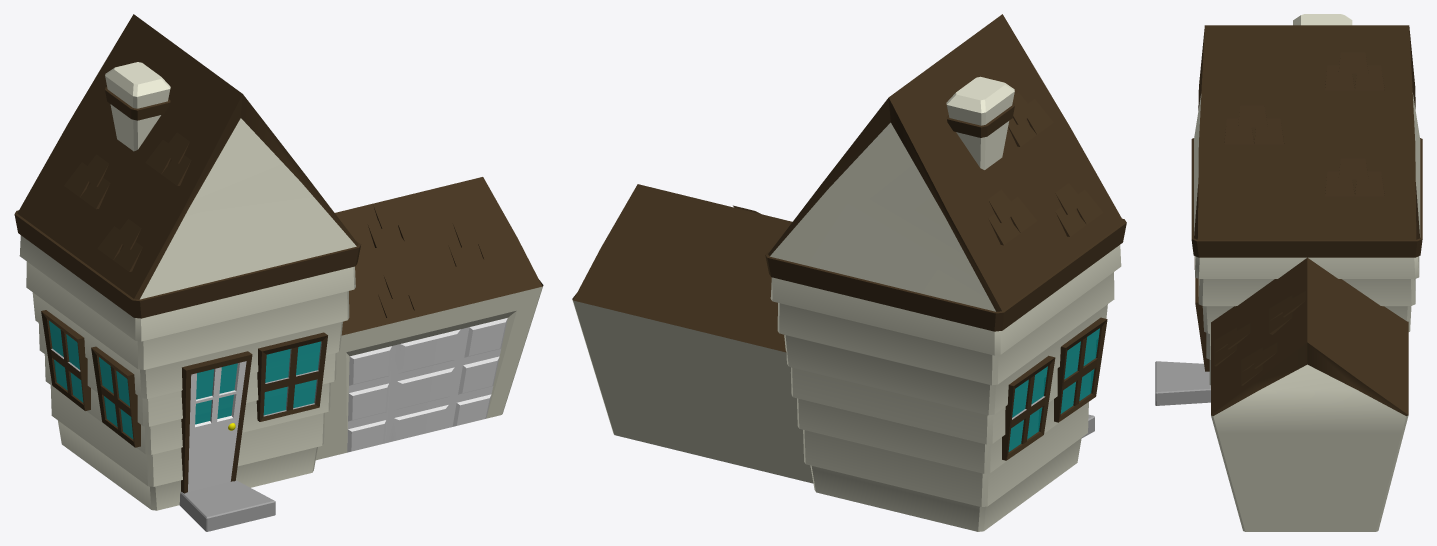
The model's file is HouseOne.fbx.
The picture shows the model from 3 angles, left to right: view 1: azimuth 30°, elevation 25°; view 2: azimuth 150°, elevation 25°; view 3: azimuth 270°, elevation 25°; orthographic projection. The views are drawn at different scales.
Visible parts, largest first — view 1: pCube1, pCube7, pCube2, pCube3, pCube8, pCube21, pCube5, pCube6, pCube20, pCube19, pCube18, pCube12 (+2 smaller); view 2: pCube1, pCube7, pCube8, pCube5, pCube6, pCube12, pCube14, pCube13; view 3: pCube1, pCube7, pCube21, pCube15, pCube16, pCube17, pCube20, pCube19, pCube18, pCube8, pCube3.
Boxes of the visible parts, bbox=[...] form: pCube1: bbox=[14, 14, 361, 510]; pCube7: bbox=[315, 177, 543, 460]; pCube2: bbox=[181, 351, 252, 493]; pCube3: bbox=[256, 332, 327, 421]; pCube8: bbox=[105, 62, 170, 151]; pCube21: bbox=[179, 480, 275, 531]; pCube5: bbox=[91, 346, 140, 447]; pCube6: bbox=[41, 310, 90, 410]; pCube20: bbox=[367, 199, 431, 247]; pCube19: bbox=[378, 268, 442, 317]; pCube18: bbox=[447, 217, 511, 266]; pCube12: bbox=[64, 154, 109, 209]; pCube1: bbox=[765, 14, 1126, 531]; pCube7: bbox=[572, 184, 813, 483]; pCube8: bbox=[946, 76, 1014, 169]; pCube5: bbox=[1054, 317, 1107, 422]; pCube6: bbox=[1002, 355, 1055, 460]; pCube12: bbox=[988, 189, 1036, 245]; pCube14: bbox=[1055, 183, 1102, 236]; pCube13: bbox=[1008, 92, 1053, 146]; pCube1: bbox=[1191, 25, 1422, 385]; pCube7: bbox=[1211, 257, 1408, 531]; pCube21: bbox=[1155, 361, 1210, 405]; pCube15: bbox=[1224, 105, 1284, 144]; pCube16: bbox=[1325, 52, 1384, 90]; pCube17: bbox=[1325, 158, 1384, 196]; pCube20: bbox=[1269, 291, 1305, 334]; pCube19: bbox=[1214, 323, 1250, 366]; pCube18: bbox=[1241, 342, 1277, 385]; pCube8: bbox=[1293, 14, 1352, 25]; pCube3: bbox=[1195, 277, 1209, 371].
Size of the model in its own units: 1.85 by 1.7 by 1.09.
